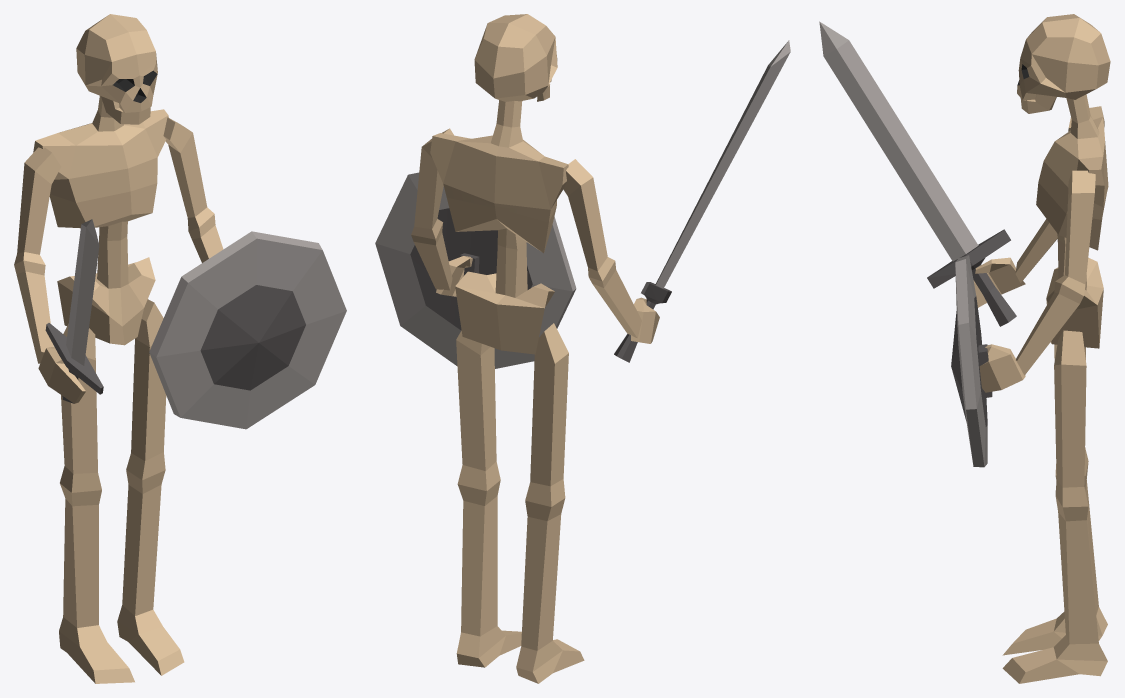
Rendered from people_skeleton-soldier.fbx.
The picture shows the model from 3 angles, left to right: view 1: azimuth 30°, elevation 25°; view 2: azimuth 150°, elevation 25°; view 3: azimuth 270°, elevation 25°; orthographic projection.
Parts seen in each view (by area): view 1: people_skeleton_soldier; view 2: people_skeleton_soldier; view 3: people_skeleton_soldier.
Boxes of the visible parts, x1=… form: people_skeleton_soldier: x1=14, y1=14, x2=346, y2=683; people_skeleton_soldier: x1=375, y1=14, x2=790, y2=683; people_skeleton_soldier: x1=819, y1=14, x2=1110, y2=683.
Size of the model in its own units: 109 by 200 by 81.94.
